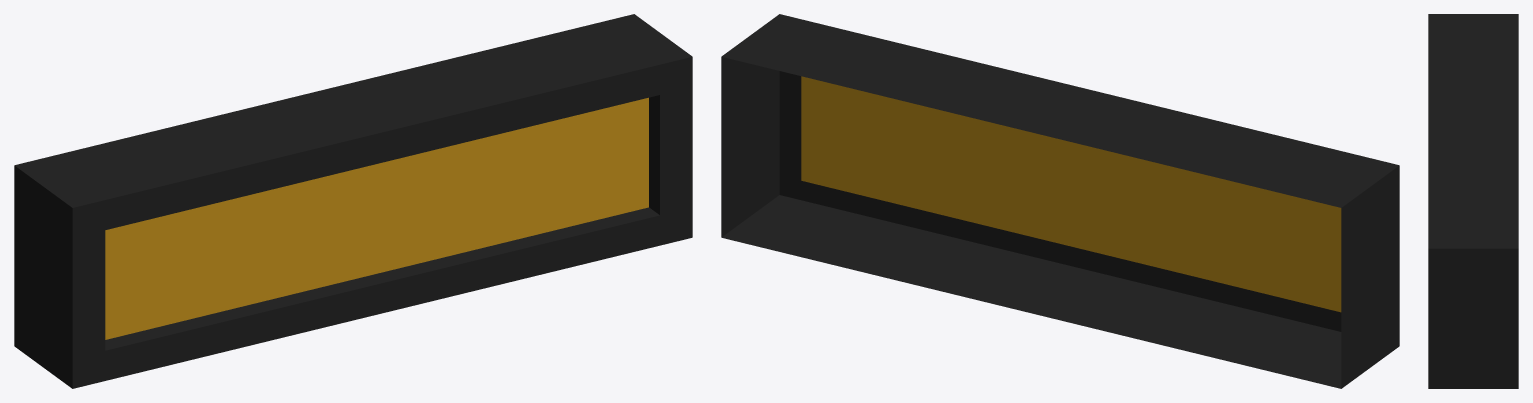
File: Wall_Light_1.obj
3 views of the same model, side by side, from view 1: azimuth 30°, elevation 25°; view 2: azimuth 150°, elevation 25°; view 3: azimuth 270°, elevation 25° (orthographic). The views are drawn at different scales.
Parts seen in each view (by area): view 1: Wall_Light_1; view 2: Wall_Light_1; view 3: Wall_Light_1.
Boxes of the visible parts, box(x1,y1,x2,y2) form: Wall_Light_1: box(14, 14, 692, 388); Wall_Light_1: box(721, 14, 1399, 388); Wall_Light_1: box(1428, 14, 1518, 388).
Bounding box in the file's own units: 0.9891 × 0.2759 × 0.1612.
